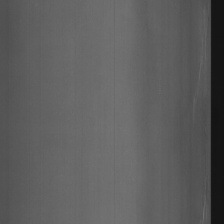silk_spot: (190, 8, 208, 102), (197, 128, 209, 223)
